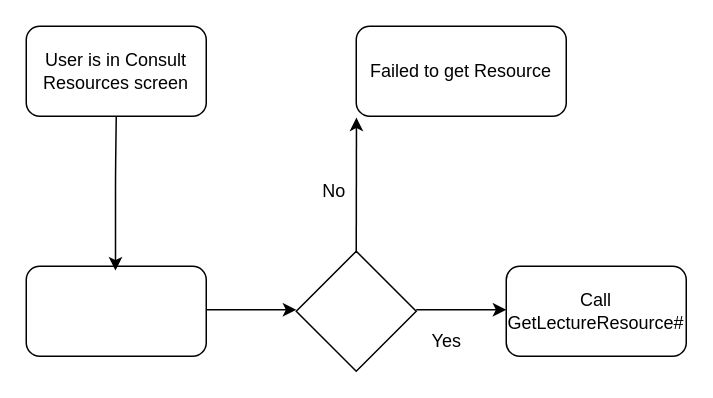
This 713x398 diagram has some shape labels left out. Each missing label, with the centre of its shape:
"Is the Resource # available" belongs at pixel 355 310.
"User clicks in Resource #" belongs at pixel 115 310.
